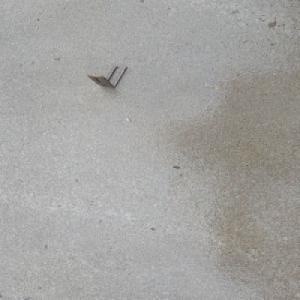MetalPart: (86, 63, 128, 88)
